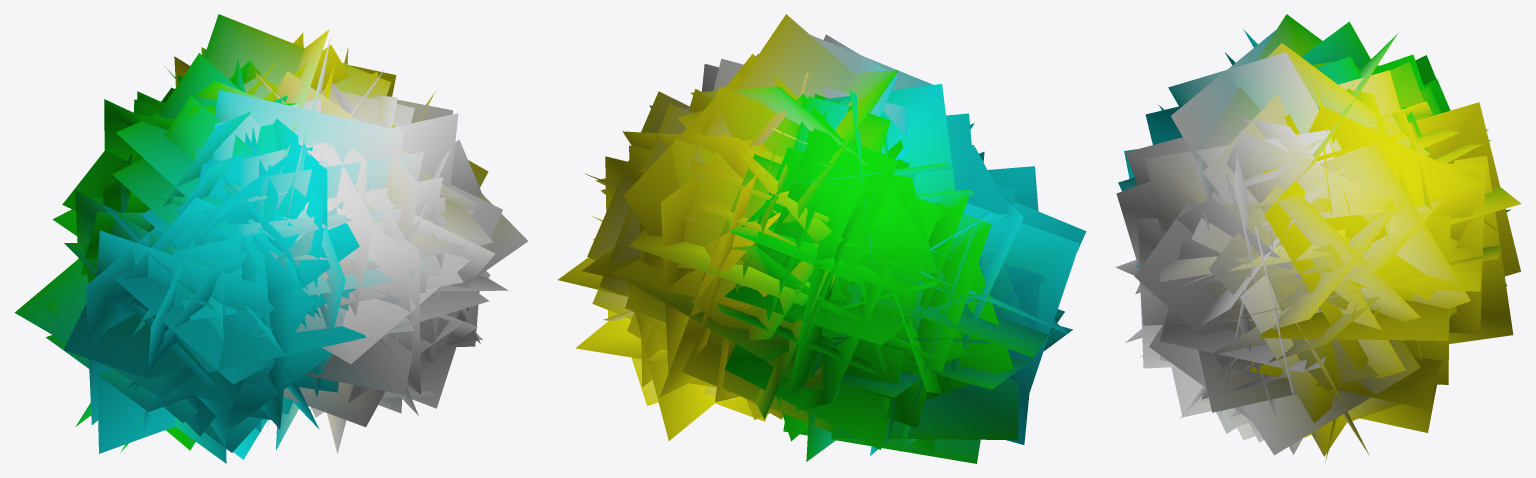
Rendered from Bush01.fbx.
3 renders of one model, left to right at view 1: azimuth 30°, elevation 25°; view 2: azimuth 150°, elevation 25°; view 3: azimuth 270°, elevation 25°, orthographic. The views are drawn at different scales.
Visible parts, largest first — view 1: geo1; view 2: geo1; view 3: geo1.
Part boxes in pixels (<box>): geo1: <box>14,14,528,463</box>; geo1: <box>558,14,1086,463</box>; geo1: <box>1115,14,1521,462</box>.
Size of the model in its own units: 258 by 221 by 200.
